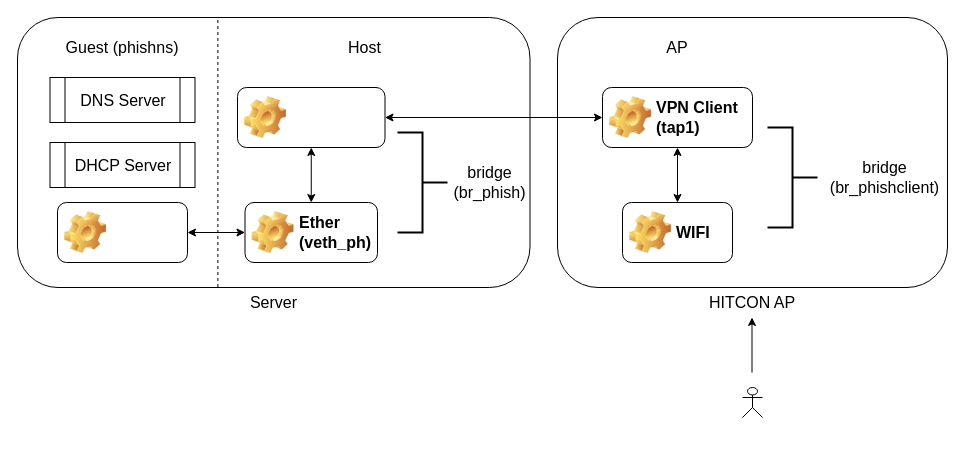
The diagram is 965 pixels wide and 461 high, and some of its shapes have lost their labels. The shapes that lost their labels are listed below. From the top down, each one's box as (x1, y1, x2, y2) in pixels, then its label:
(236, 86, 385, 148): VPN Server (tap0)
(56, 202, 188, 262): Ether (veth_pg)
(742, 386, 762, 418): attendance
